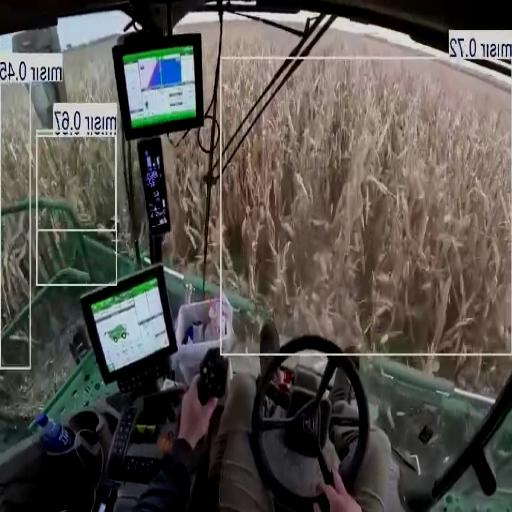misir: (1, 0, 512, 478)
